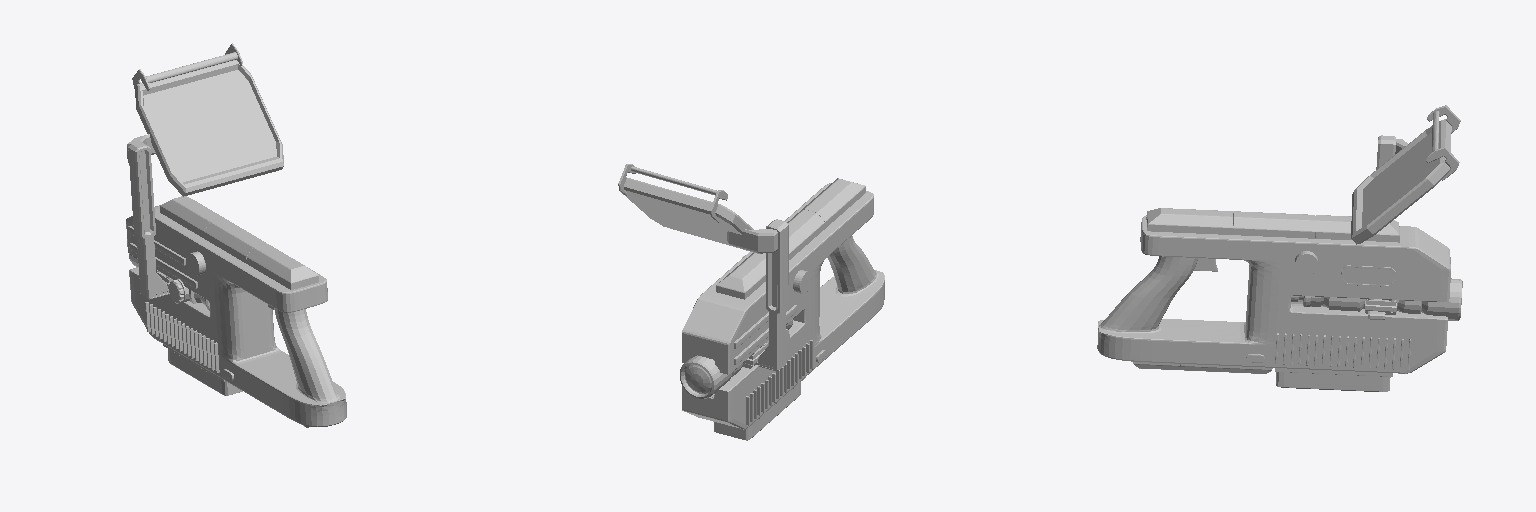
Rendered from scanner.obj.
The picture shows the model from 3 angles: view 1: azimuth 30°, elevation 25°; view 2: azimuth 150°, elevation 25°; view 3: azimuth 270°, elevation 25°; orthographic projection.
Parts seen in each view (by area): view 1: mscan_hinge; view 2: mscan_hinge; view 3: mscan_hinge.
Part boxes in pixels (x1,y1,x2,y2): mscan_hinge: (126,43,346,427); mscan_hinge: (618,164,884,440); mscan_hinge: (1097,105,1462,391).
Bounding box in the file's own units: 0.3931 × 0.7309 × 0.8788.